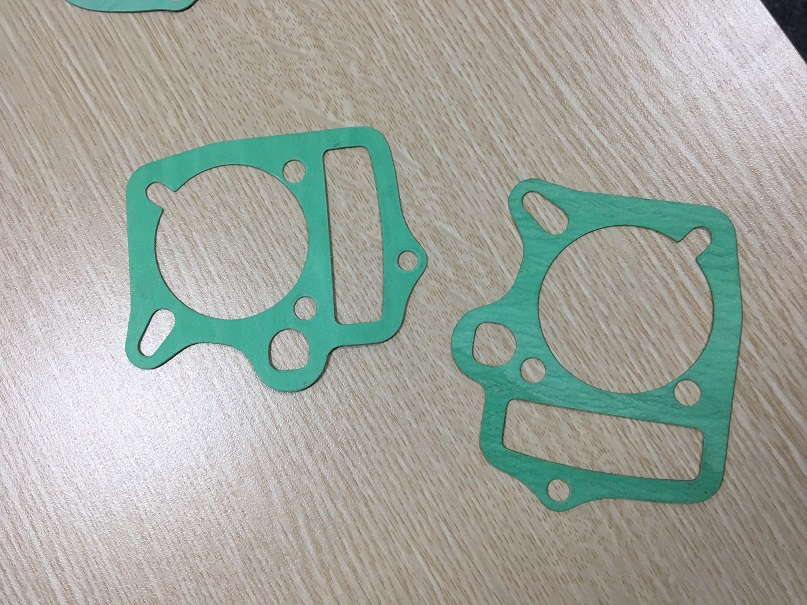type4: (448, 172, 749, 523), (96, 126, 444, 394)
